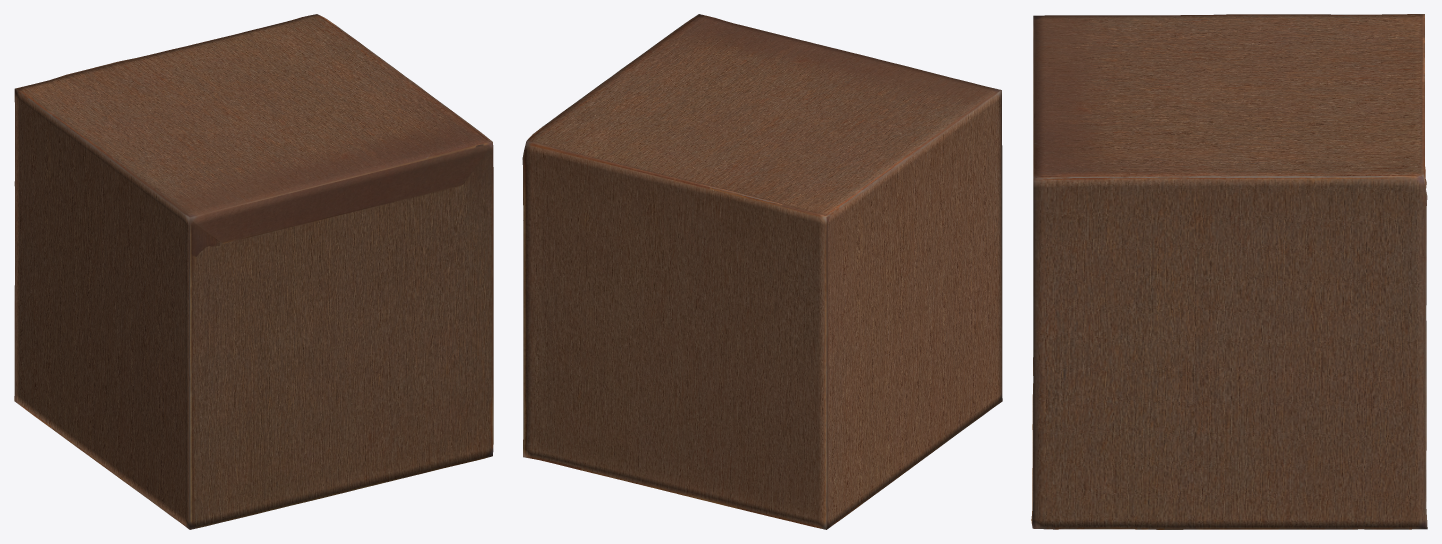
Rendered from Frame_v1.glb.
3 views of the same model, side by side, from view 1: azimuth 30°, elevation 25°; view 2: azimuth 150°, elevation 25°; view 3: azimuth 270°, elevation 25° (orthographic). The views are drawn at different scales.
Parts seen in each view (by area): view 1: texture_mapping; view 2: texture_mapping; view 3: texture_mapping.
Boxes of the visible parts, x1,y1,x2,y2 form: texture_mapping: (14,14,493,529); texture_mapping: (522,14,1002,529); texture_mapping: (1031,14,1427,529).
Bounding box in the file's own units: 0.9899 × 0.9831 × 0.9983.
Materials: 1 (1 with a texture image).
